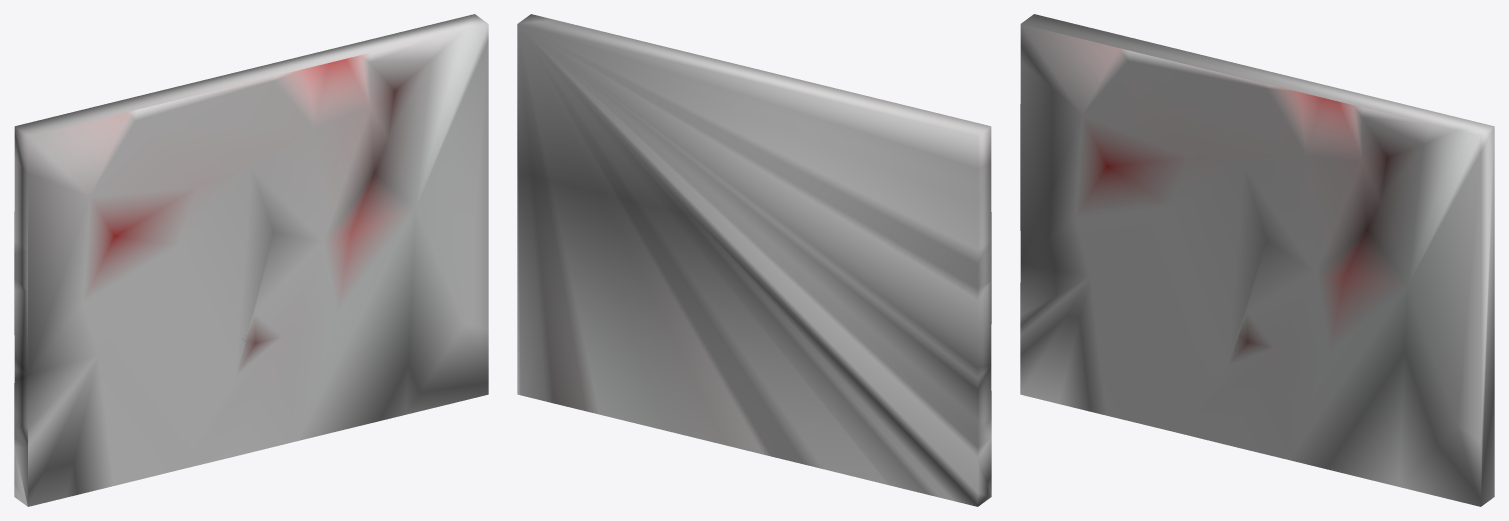
File: SM_FA_Factory_W390_H300.fbx
3 views of the same model, side by side, from view 1: azimuth 30°, elevation 25°; view 2: azimuth 150°, elevation 25°; view 3: azimuth 330°, elevation 25° (orthographic).
Parts seen in each view (by area): view 1: SM_FA_Factory_W390_H300; view 2: SM_FA_Factory_W390_H300; view 3: SM_FA_Factory_W390_H300.
Boxes of the visible parts, x1,y1,x2,y2 form: SM_FA_Factory_W390_H300: (14, 14, 488, 506); SM_FA_Factory_W390_H300: (517, 14, 991, 506); SM_FA_Factory_W390_H300: (1020, 14, 1494, 506).
Size of the model in its own units: 390 by 20 by 300.
